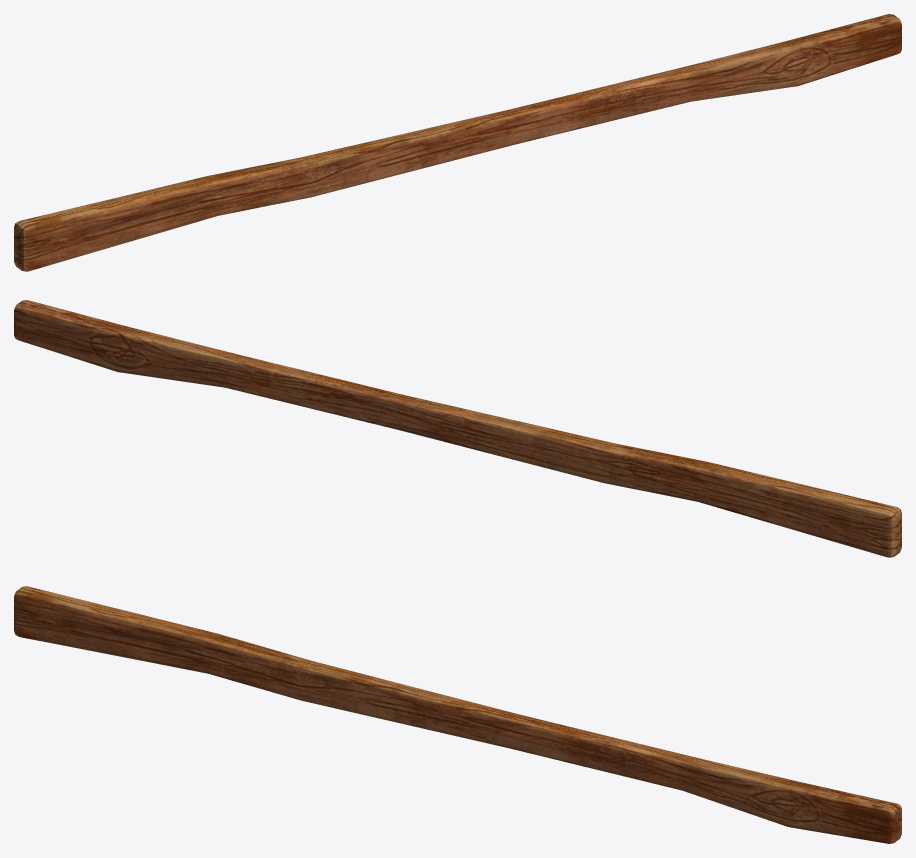
The model's file is SM_Handrail.fbx.
The picture shows the model from 3 angles, top to bottom: view 1: azimuth 30°, elevation 25°; view 2: azimuth 150°, elevation 25°; view 3: azimuth 330°, elevation 25°; orthographic projection.
Parts seen in each view (by area): view 1: SM_Handrail_LOD0; view 2: SM_Handrail_LOD0; view 3: SM_Handrail_LOD0.
Boxes of the visible parts, bbox=[...] form: SM_Handrail_LOD0: bbox=[14, 14, 901, 271]; SM_Handrail_LOD0: bbox=[14, 300, 901, 557]; SM_Handrail_LOD0: bbox=[14, 586, 901, 843].
Size of the model in its own units: 556 by 12.96 by 29.67.
1 material, 1 textured.
